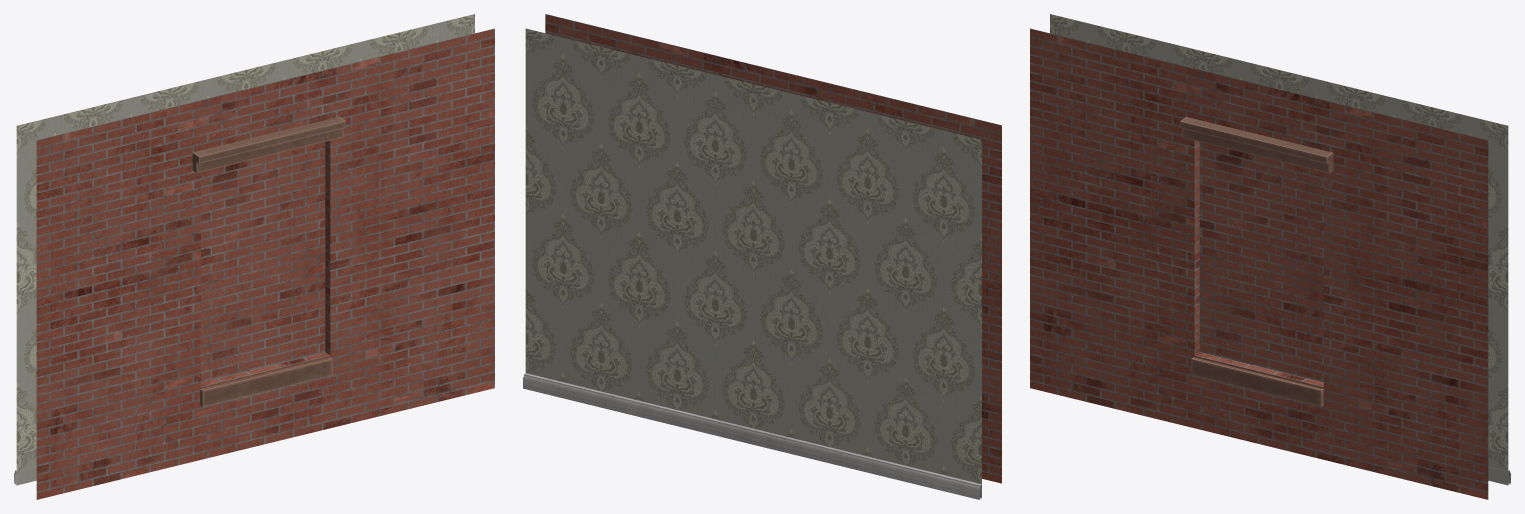
Rendered from House_07_Wall_05.fbx.
3 renders of one model, left to right at view 1: azimuth 30°, elevation 25°; view 2: azimuth 150°, elevation 25°; view 3: azimuth 330°, elevation 25°, orthographic.
Visible parts, largest first — view 1: House_07_Wall_05; view 2: House_07_Wall_05; view 3: House_07_Wall_05.
Part boxes in pixels (x1=…): House_07_Wall_05: x1=14, y1=14, x2=494, y2=499; House_07_Wall_05: x1=523, y1=14, x2=1001, y2=499; House_07_Wall_05: x1=1030, y1=14, x2=1510, y2=499.
Size of the model in its own units: 400 by 300 by 43.29.
